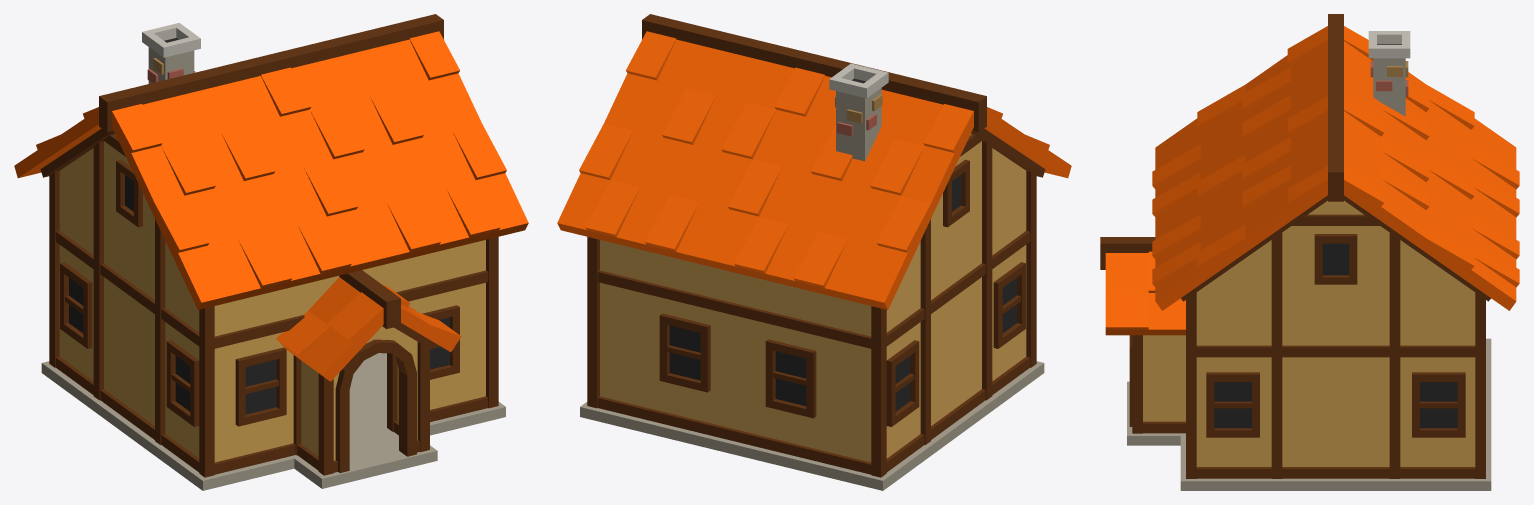
File: House_03.fbx
3 views of the same model, side by side, from view 1: azimuth 30°, elevation 25°; view 2: azimuth 150°, elevation 25°; view 3: azimuth 270°, elevation 25° (orthographic). The views are drawn at different scales.
Visible parts, largest first — view 1: House_03; view 2: House_03; view 3: House_03.
Boxes of the visible parts, x1,y1,x2,y2 form: House_03: [14, 14, 528, 490]; House_03: [557, 14, 1071, 490]; House_03: [1100, 14, 1519, 490].
Bounding box in the file's own units: 700 × 710 × 783.
1 material, 1 textured.
